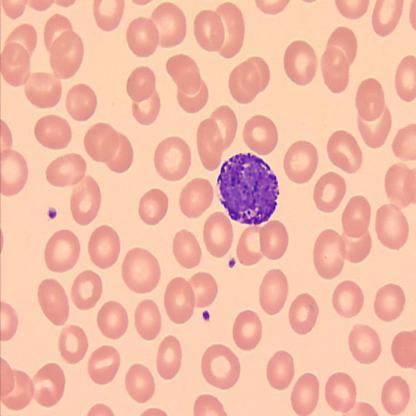Basophil: (214, 148, 282, 228)
